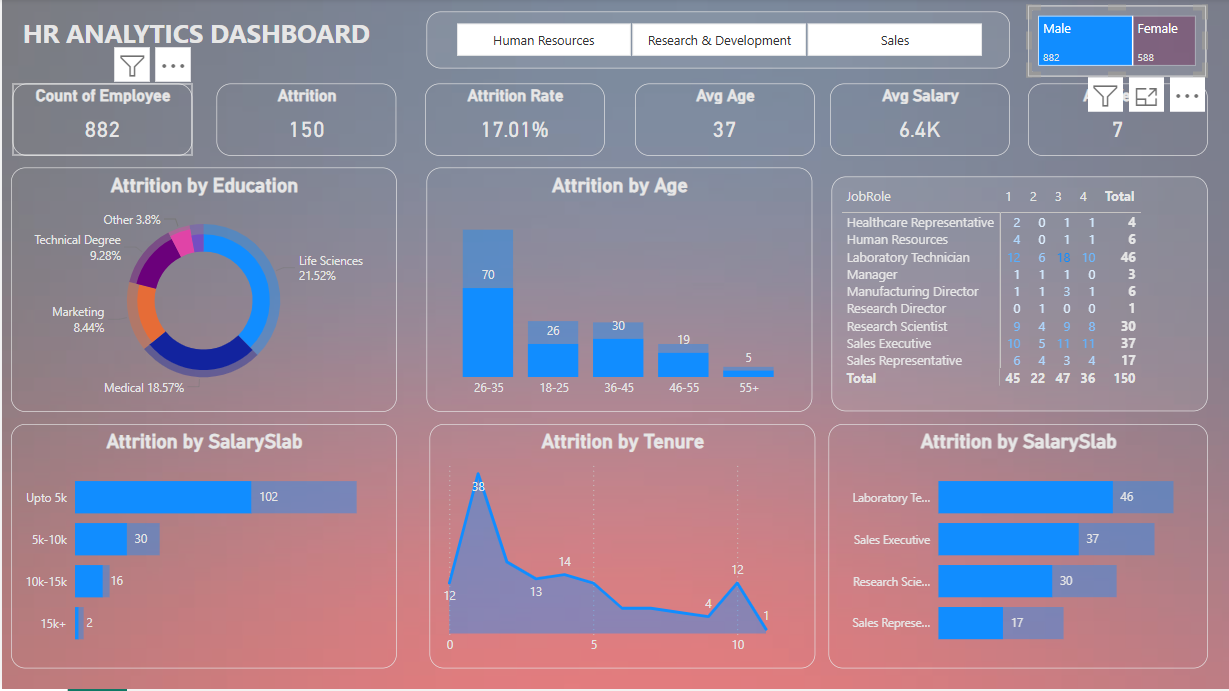

The dashboard page shown, as its layout file describes it:
{"tool":"powerbi","page":{"name":"Page 1","canvas":[1280,720],"ordinal":0},"visuals":[{"type":"card","title":"Count of Employee","fields":{"Values":["Count(HR_Analytics.EmpID)"]},"box":[10.3,89,187.5,75.4],"z":0},{"type":"card","title":"Attrition","fields":{"Values":["Sum(HR_Analytics.AttritionCount)"]},"box":[223.6,89,187.5,75.4],"z":1000},{"type":"card","title":"Attrition Rate","fields":{"Values":["HR_Analytics.AttritionRate"]},"box":[441.3,89,187.3,75.2],"z":2000},{"type":"card","title":"Avg Age","fields":{"Values":["Avg(HR_Analytics.Age)"]},"box":[658.9,89,187.3,75.2],"z":3000},{"type":"card","title":"Avg Salary","fields":{"Values":["Avg(HR_Analytics.MonthlyIncome)"]},"box":[862.2,89,187.3,75.2],"z":4000},{"type":"card","title":"Avg Years","fields":{"Values":["Avg(HR_Analytics.YearsAtCompany)"]},"box":[1068.7,89,187.3,75.2],"z":5000},{"type":"donutChart","title":"Attrition by Education","fields":{"Category":["HR_Analytics.EducationField"],"Y":["Sum(HR_Analytics.AttritionCount)"]},"box":[9.6,176.1,401.8,254.5],"z":6000},{"type":"columnChart","title":"Attrition by Age","fields":{"Category":["HR_Analytics.AgeGroup"],"Y":["Sum(HR_Analytics.AttritionCount)"]},"box":[441.8,176.1,401.8,254.5],"z":7000},{"type":"pivotTable","fields":{"Rows":["HR_Analytics.JobRole"],"Columns":["HR_Analytics.JobSatisfaction"],"Values":["Sum(HR_Analytics.AttritionCount)"]},"box":[864.4,185.7,392.2,244.9],"z":8000},{"type":"barChart","title":"Attrition by SalarySlab","fields":{"Category":["HR_Analytics.SalarySlab"],"Y":["Sum(HR_Analytics.AttritionCount)"]},"box":[9.6,443.4,401.8,254.5],"z":9000},{"type":"areaChart","title":"Attrition by Tenure","fields":{"Category":["HR_Analytics.YearsAtCompany"],"Y":["Sum(HR_Analytics.AttritionCount)"]},"box":[445,443.4,401.8,254.5],"z":10000},{"type":"barChart","title":"Attrition by SalarySlab","fields":{"Category":["HR_Analytics.JobRole"],"Y":["Sum(HR_Analytics.AttritionCount)"]},"box":[861.2,443.4,395.4,254.5],"z":11000},{"type":"treemap","fields":{"Group":["HR_Analytics.Gender"],"Values":["CountNonNull(HR_Analytics.Attrition)"]},"box":[1069,8,186,74],"z":12000},{"type":"slicer","fields":{"Values":["HR_Analytics.Department"]},"box":[441.8,14.4,608.3,59.2],"z":13000},{"type":"textbox","box":[9.6,12.8,385.8,65.6],"z":14000}]}

Visuals, with their boxes in screenshot pixels (x1, y1, x2, y2), scaled from the page's 1280x720 canvas onto the 1229x691 screenshot:
"Count of Employee" card: {"left": 10, "top": 85, "right": 190, "bottom": 158}
"Attrition" card: {"left": 215, "top": 85, "right": 395, "bottom": 158}
"Attrition Rate" card: {"left": 424, "top": 85, "right": 604, "bottom": 158}
"Avg Age" card: {"left": 633, "top": 85, "right": 812, "bottom": 158}
"Avg Salary" card: {"left": 828, "top": 85, "right": 1008, "bottom": 158}
"Avg Years" card: {"left": 1026, "top": 85, "right": 1206, "bottom": 158}
"Attrition by Education" donutChart: {"left": 9, "top": 169, "right": 395, "bottom": 413}
"Attrition by Age" columnChart: {"left": 424, "top": 169, "right": 810, "bottom": 413}
pivotTable - HR_Analytics.JobRole x HR_Analytics.JobSatisfaction: {"left": 830, "top": 178, "right": 1207, "bottom": 413}
"Attrition by SalarySlab" barChart: {"left": 9, "top": 426, "right": 395, "bottom": 670}
"Attrition by Tenure" areaChart: {"left": 427, "top": 426, "right": 813, "bottom": 670}
"Attrition by SalarySlab" barChart: {"left": 827, "top": 426, "right": 1207, "bottom": 670}
treemap - HR_Analytics.Gender x CountNonNull(HR_Analytics.Attrition): {"left": 1026, "top": 8, "right": 1205, "bottom": 79}
slicer - HR_Analytics.Department: {"left": 424, "top": 14, "right": 1008, "bottom": 71}
textbox: {"left": 9, "top": 12, "right": 380, "bottom": 75}
